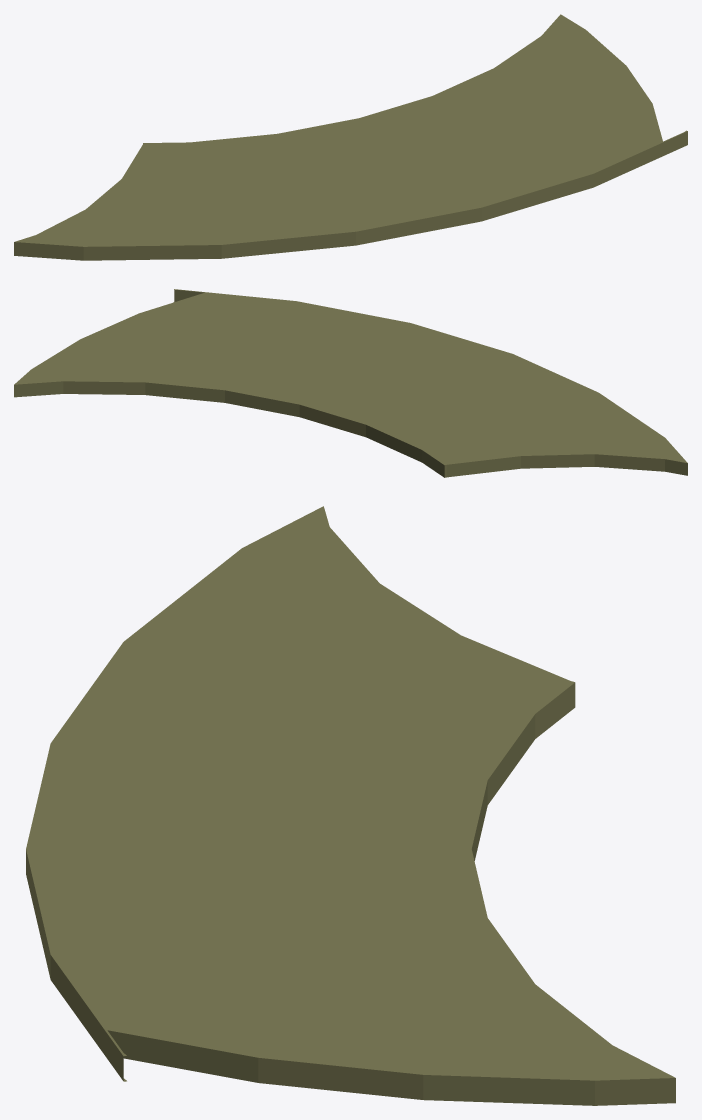
Rendered from Road4.dae.
The picture shows the model from 3 angles, top to bottom: view 1: azimuth 30°, elevation 25°; view 2: azimuth 150°, elevation 25°; view 3: azimuth 270°, elevation 25°; orthographic projection. The views are drawn at different scales.
Visible parts, largest first — view 1: Cylinder_001; view 2: Cylinder_001; view 3: Cylinder_001.
Boxes of the visible parts, left/top/right/bottom form: Cylinder_001: left=14, top=14, right=687, bottom=260; Cylinder_001: left=14, top=289, right=687, bottom=477; Cylinder_001: left=26, top=506, right=675, bottom=1105.
Bounding box in the file's own units: 12.2 × 5.83 × 0.25.
